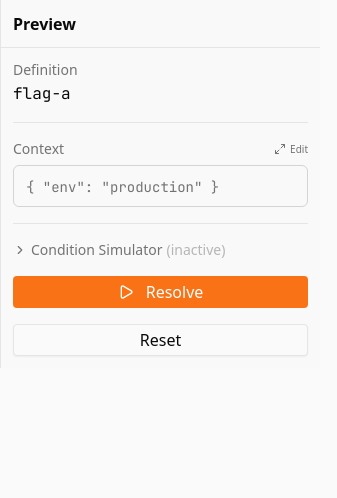
PreviewPanel › should show error result when definition is not found
Click the button "Resolve". click: (160, 292)
box: [13,276,308,308]
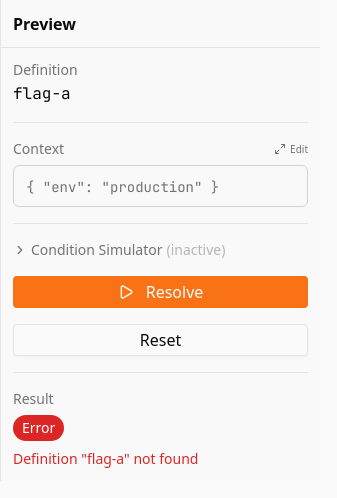
Expected: the text "Error" is shown, [13,415,64,441]
